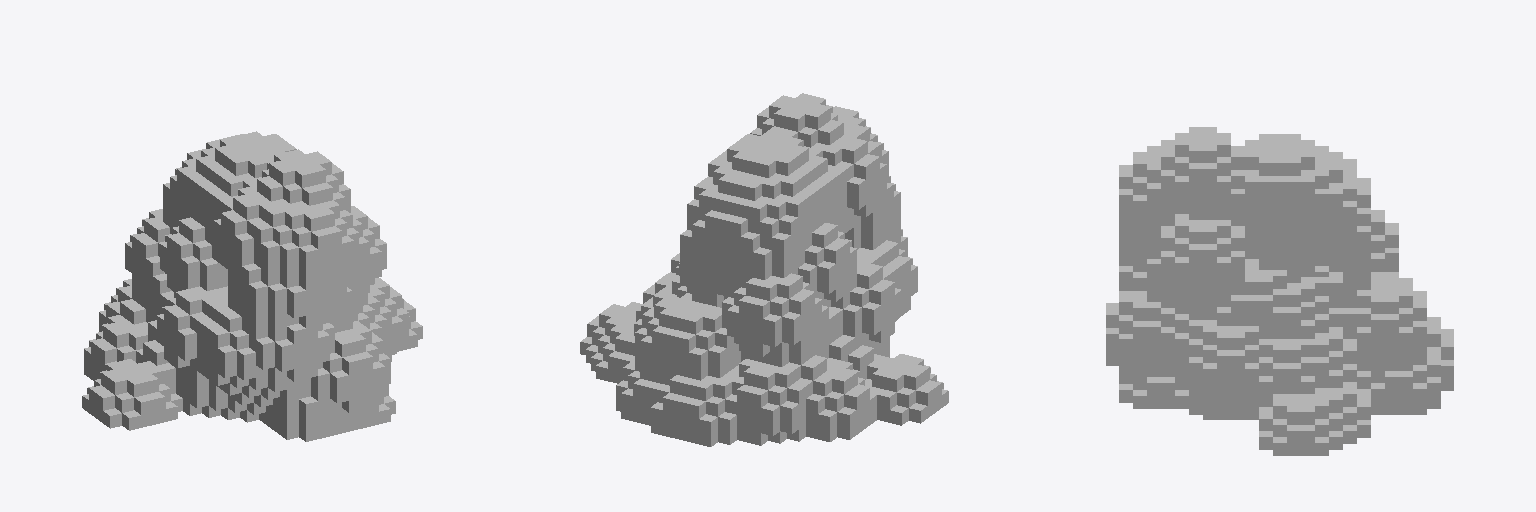
File: SC_Rock.obj
3 views of the same model, side by side, from view 1: azimuth 30°, elevation 25°; view 2: azimuth 150°, elevation 25°; view 3: azimuth 270°, elevation 25° (orthographic).
Parts seen in each view (by area): view 1: SC_Rock; view 2: SC_Rock; view 3: SC_Rock.
Part boxes in pixels (x1,y1,x2,y2): SC_Rock: (82,131,422,441); SC_Rock: (580,93,948,446); SC_Rock: (1106,127,1453,455).
Bounding box in the file's own units: 27 × 19 × 25.